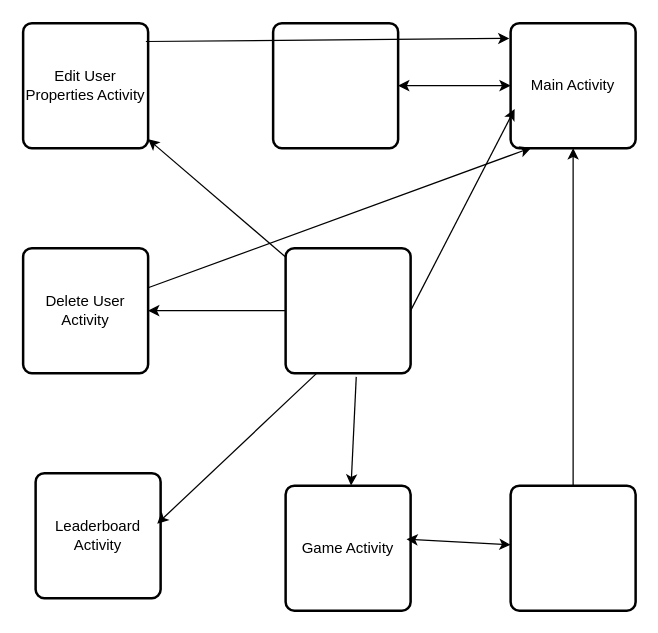
Some shapes in this 658 by 633 pixel diagram are drawn without their labels. Each missing label, with the centre of its shape:
"Game Over Activity" goes at [572,547].
"Menu Tool at the top of every Activity" goes at [347,310].
"Register Activity" goes at [335,85].
